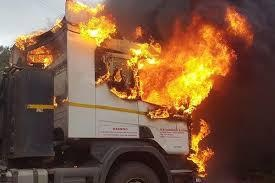fire: (84, 7, 252, 117), (64, 0, 116, 44), (13, 27, 57, 68)
